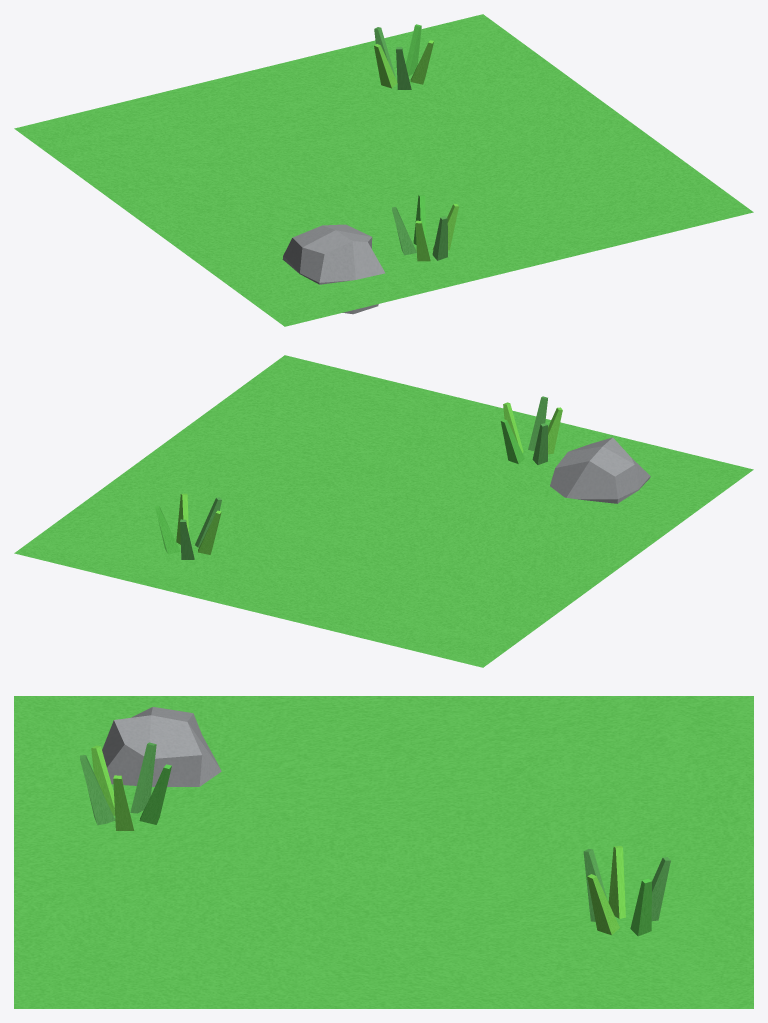
The model's file is park_4.fbx.
3 views of the same model, one above another, from view 1: azimuth 30°, elevation 25°; view 2: azimuth 150°, elevation 25°; view 3: azimuth 270°, elevation 25° (orthographic). The views are drawn at different scales.
Visible parts, largest first — view 1: park_green.019, stone.014, grass.037, grass.025; view 2: park_green.019, stone.014, grass.025, grass.037; view 3: park_green.019, stone.014, grass.025, grass.037.
Boxes of the visible parts, x1=… form: park_green.019: x1=14, y1=14, x2=753, y2=326; stone.014: x1=282, y1=224, x2=385, y2=314; grass.037: x1=374, y1=24, x2=434, y2=89; grass.025: x1=392, y1=195, x2=458, y2=261; park_green.019: x1=14, y1=355, x2=753, y2=667; stone.014: x1=550, y1=437, x2=650, y2=503; grass.025: x1=500, y1=396, x2=562, y2=464; grass.037: x1=155, y1=493, x2=221, y2=559; park_green.019: x1=14, y1=696, x2=753, y2=1008; stone.014: x1=102, y1=707, x2=221, y2=786; grass.025: x1=80, y1=742, x2=171, y2=830; grass.037: x1=583, y1=846, x2=670, y2=936.
Size of the model in its own units: 2 by 0.3337 by 2.
Materials: 2 (2 with a texture image).
